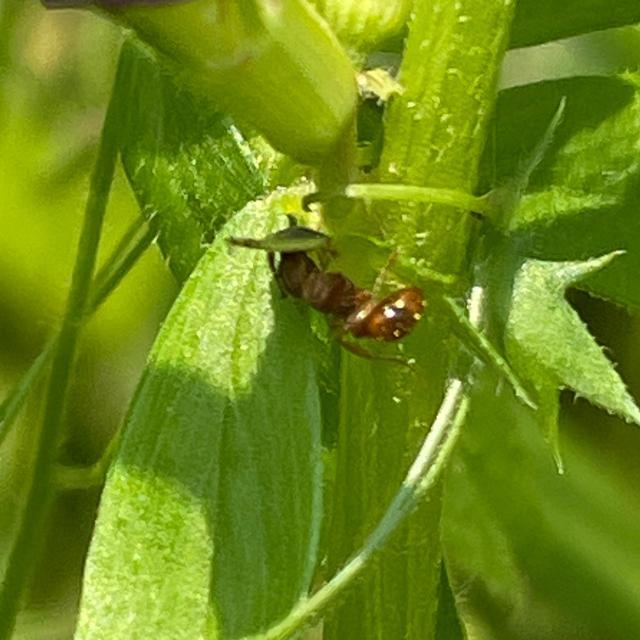Myrmica: (238, 210, 448, 370)
